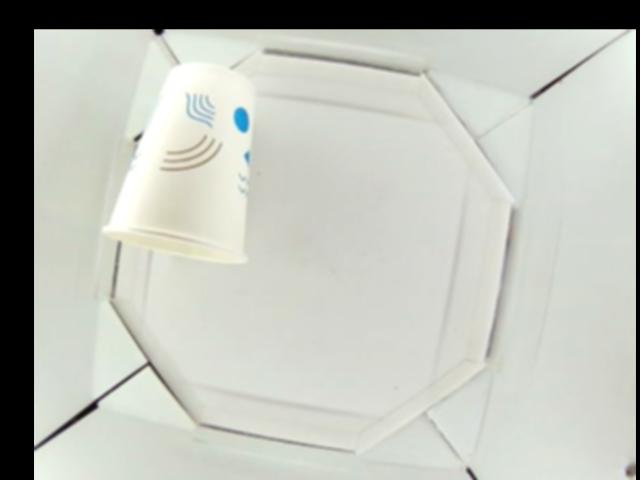Cup: (104, 61, 258, 268)
